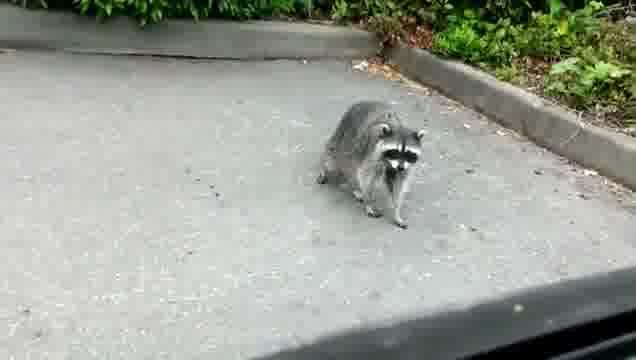raccoon: (309, 98, 428, 232)
